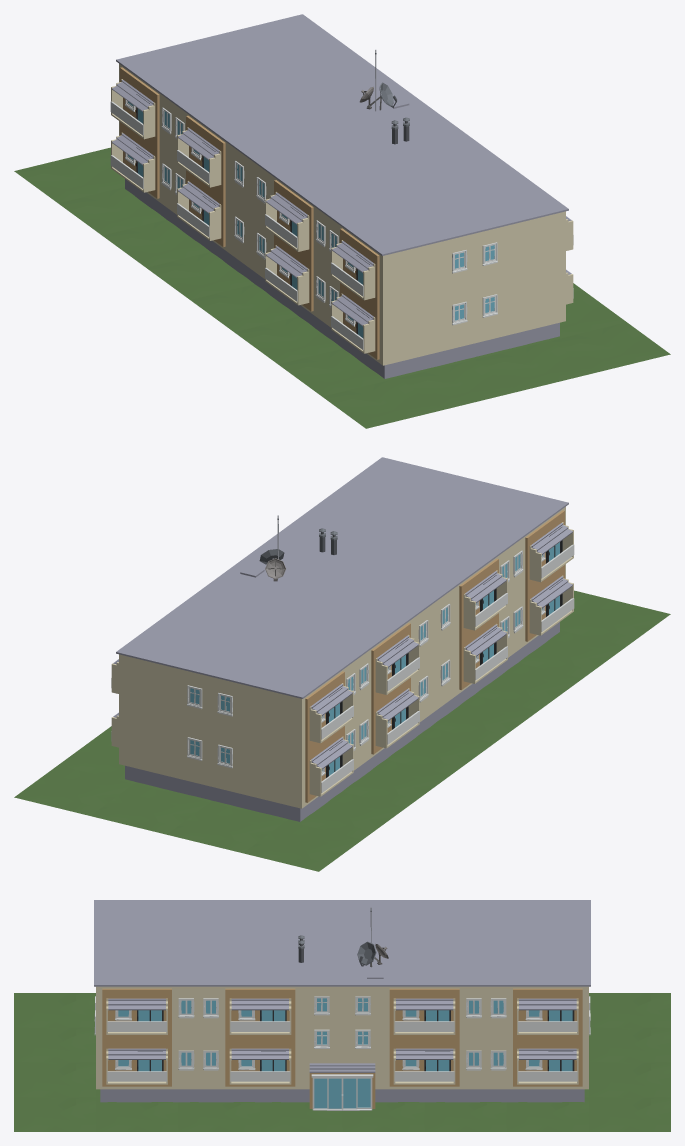
The model's file is Budynek opalony.fbx.
3 renders of one model, top to bottom at view 1: azimuth 30°, elevation 25°; view 2: azimuth 150°, elevation 25°; view 3: azimuth 270°, elevation 25°, orthographic. The views are drawn at different scales.
Parts seen in each view (by area): view 1: Cube__2_, Cube__1_, Cube, SM_Env_Grass_01, SM_Env_Grass_01__8_, SM_Env_Grass_01__4_, SM_Env_Grass_01__12_, SM_Env_Grass_01__27_, SM_Env_Grass_01__13_, SM_Env_Grass_01__26_, SM_Env_Grass_01__25_, SM_Env_Grass_01__15_ (+7 smaller); view 2: Cube__2_, Cube__1_, Cube, SM_Env_Grass_01__31_, SM_Env_Grass_01__29_, SM_Env_Grass_01__30_, SM_Env_Grass_01__27_, SM_Env_Grass_01__12_, SM_Env_Grass_01__26_, SM_Env_Grass_01__13_, SM_Env_Grass_01__14_, SM_Env_Grass_01__15_ (+7 smaller); view 3: Cube__2_, Cube__1_, Cube, Cube__3_, Cube__7_, Cube__10_, Cube__4_, SM_Env_Grass_01__30_, SM_Env_Grass_01__4_, SM_Env_Grass_01__8_, SM_Env_Grass_01__29_, SM_Env_Grass_01 (+32 smaller).
Part boxes in pixels (bbox=[...]): Cube__2_: bbox=[116, 14, 568, 255]; Cube__1_: bbox=[119, 64, 565, 365]; Cube: bbox=[125, 179, 559, 378]; SM_Env_Grass_01: bbox=[551, 322, 670, 372]; SM_Env_Grass_01__8_: bbox=[398, 359, 517, 409]; SM_Env_Grass_01__4_: bbox=[475, 341, 593, 391]; SM_Env_Grass_01__12_: bbox=[322, 378, 441, 428]; SM_Env_Grass_01__27_: bbox=[14, 152, 124, 203]; SM_Env_Grass_01__13_: bbox=[278, 348, 397, 396]; SM_Env_Grass_01__26_: bbox=[58, 187, 166, 235]; SM_Env_Grass_01__25_: bbox=[102, 220, 210, 267]; SM_Env_Grass_01__15_: bbox=[190, 284, 298, 331]; Cube__2_: bbox=[116, 457, 568, 698]; Cube__1_: bbox=[119, 507, 565, 808]; Cube: bbox=[125, 622, 559, 821]; SM_Env_Grass_01__31_: bbox=[14, 765, 133, 815]; SM_Env_Grass_01__29_: bbox=[167, 802, 286, 852]; SM_Env_Grass_01__30_: bbox=[91, 784, 209, 834]; SM_Env_Grass_01__27_: bbox=[243, 821, 362, 871]; SM_Env_Grass_01__12_: bbox=[560, 595, 670, 646]; SM_Env_Grass_01__26_: bbox=[287, 791, 406, 839]; SM_Env_Grass_01__13_: bbox=[518, 630, 626, 678]; SM_Env_Grass_01__14_: bbox=[474, 663, 582, 710]; SM_Env_Grass_01__15_: bbox=[430, 695, 538, 742]; Cube__2_: bbox=[94, 900, 590, 986]; Cube__1_: bbox=[96, 986, 588, 1089]; Cube: bbox=[100, 1089, 584, 1102]; Cube__3_: bbox=[389, 988, 459, 1086]; Cube__7_: bbox=[225, 988, 295, 1086]; Cube__10_: bbox=[102, 988, 171, 1086]; Cube__4_: bbox=[513, 988, 582, 1086]; SM_Env_Grass_01__30_: bbox=[589, 1062, 670, 1097]; SM_Env_Grass_01__4_: bbox=[14, 1062, 95, 1097]; SM_Env_Grass_01__8_: bbox=[14, 1027, 95, 1062]; SM_Env_Grass_01__29_: bbox=[589, 1027, 670, 1062]; SM_Env_Grass_01: bbox=[14, 1097, 95, 1131].
Size of the model in its own units: 2000 by 1191 by 4000.
